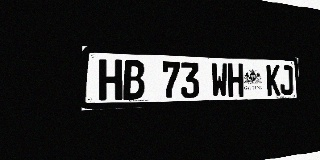3: (181, 62, 199, 98)
7: (161, 61, 180, 99)
B: (123, 60, 145, 100)
H: (99, 59, 122, 101), (228, 63, 244, 97)
J: (280, 65, 293, 95)
K: (266, 65, 280, 96)
W: (211, 63, 228, 97)
